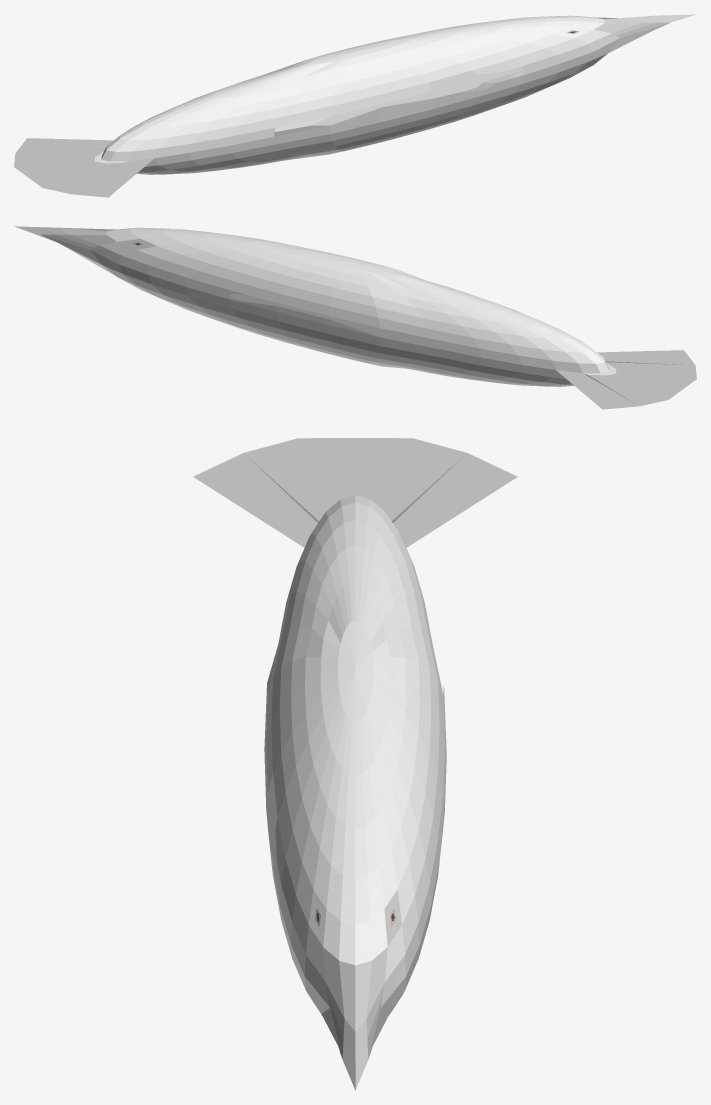
The model's file is AlbatrosBody.obj.
3 renders of one model, top to bottom at view 1: azimuth 30°, elevation 25°; view 2: azimuth 150°, elevation 25°; view 3: azimuth 270°, elevation 25°, orthographic. The views are drawn at different scales.
Visible parts, largest first — view 1: Sphere.003_Sphere.009; view 2: Sphere.003_Sphere.009; view 3: Sphere.003_Sphere.009.
Boxes of the visible parts, x1,y1,x2,y2 form: Sphere.003_Sphere.009: (14,14,696,197); Sphere.003_Sphere.009: (14,226,696,409); Sphere.003_Sphere.009: (193,438,517,1090).
Bounding box in the file's own units: 11.44 × 1.5 × 2.41.
